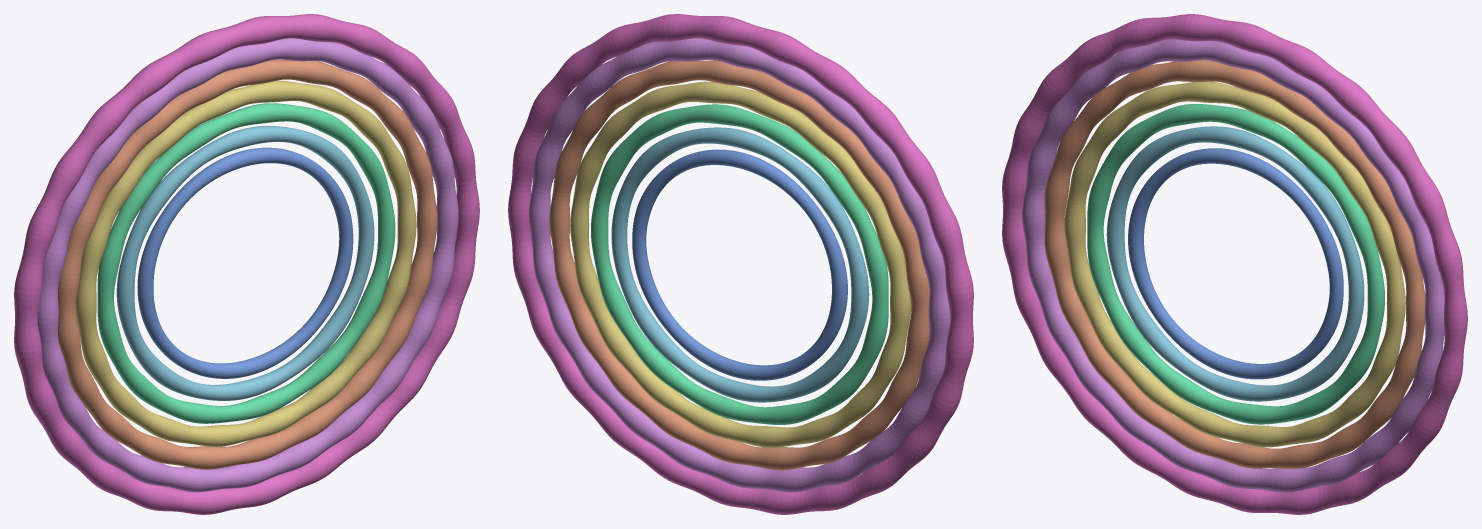
Rendered from Lotus_Drift_XV_Sirius.glb.
3 views of the same model, side by side, from view 1: azimuth 30°, elevation 25°; view 2: azimuth 150°, elevation 25°; view 3: azimuth 330°, elevation 25° (orthographic).
Visible parts, largest first — view 1: Ring_7_m25, Ring_6_m24, Ring_5_m21, Ring_4_m18, Ring_3_m13, Ring_2_m8, Ring_1_m4; view 2: Ring_7_m25, Ring_6_m24, Ring_5_m21, Ring_4_m18, Ring_3_m13, Ring_2_m8, Ring_1_m4; view 3: Ring_7_m25, Ring_6_m24, Ring_5_m21, Ring_4_m18, Ring_3_m13, Ring_2_m8, Ring_1_m4.
Boxes of the visible parts, x1=… form: Ring_7_m25: x1=14, y1=14, x2=479, y2=514; Ring_6_m24: x1=37, y1=38, x2=458, y2=492; Ring_5_m21: x1=58, y1=59, x2=437, y2=469; Ring_4_m18: x1=75, y1=80, x2=416, y2=446; Ring_3_m13: x1=97, y1=103, x2=395, y2=423; Ring_2_m8: x1=116, y1=126, x2=374, y2=400; Ring_1_m4: x1=137, y1=147, x2=353, y2=378; Ring_7_m25: x1=508, y1=14, x2=973, y2=514; Ring_6_m24: x1=528, y1=38, x2=950, y2=492; Ring_5_m21: x1=549, y1=60, x2=929, y2=470; Ring_4_m18: x1=570, y1=81, x2=911, y2=447; Ring_3_m13: x1=591, y1=104, x2=888, y2=424; Ring_2_m8: x1=611, y1=127, x2=869, y2=402; Ring_1_m4: x1=632, y1=149, x2=847, y2=380; Ring_7_m25: x1=1002, y1=14, x2=1467, y2=514; Ring_6_m24: x1=1022, y1=39, x2=1444, y2=492; Ring_5_m21: x1=1044, y1=60, x2=1425, y2=468; Ring_4_m18: x1=1064, y1=81, x2=1405, y2=447; Ring_3_m13: x1=1087, y1=104, x2=1384, y2=424; Ring_2_m8: x1=1106, y1=126, x2=1364, y2=401; Ring_1_m4: x1=1128, y1=148, x2=1343, y2=379.
Bounding box in the file's own units: 2.53 × 2.55 × 0.1295.
